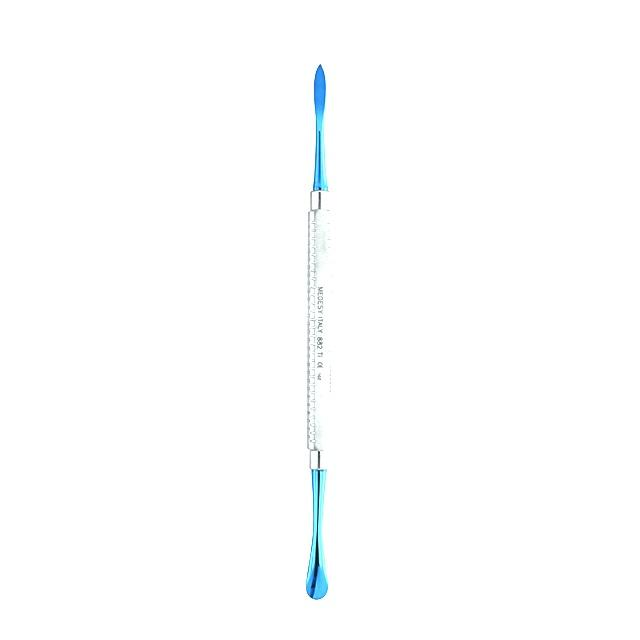elevador: (303, 64, 335, 604)
